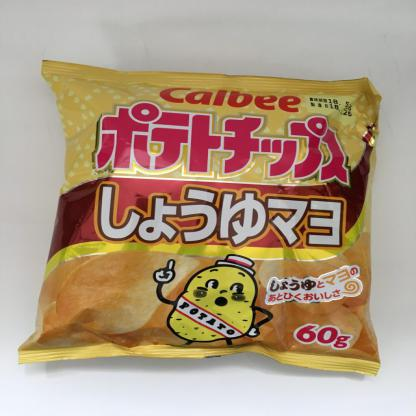potatochip: (13, 51, 392, 380)
